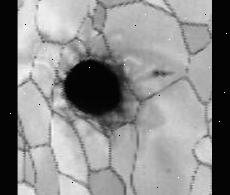good_void: (55, 48, 132, 130), (155, 70, 167, 77)
